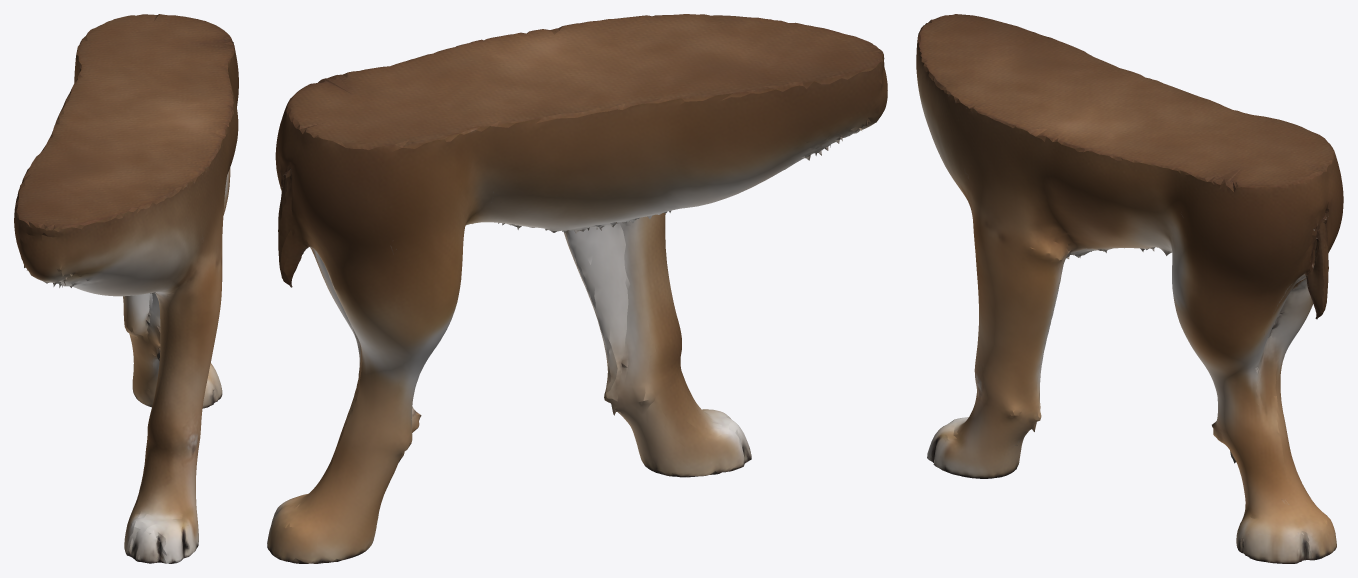
Rendered from cruciate_tear.glb.
The picture shows the model from 3 angles, left to right: view 1: azimuth 30°, elevation 25°; view 2: azimuth 150°, elevation 25°; view 3: azimuth 270°, elevation 25°; orthographic projection. The views are drawn at different scales.
Parts seen in each view (by area): view 1: model; view 2: model; view 3: model.
Part boxes in pixels (x1=…): model: x1=14, y1=14, x2=238, y2=563; model: x1=267, y1=14, x2=887, y2=563; model: x1=916, y1=14, x2=1343, y2=563.
Size of the model in its own units: 1.86 by 1.83 by 1.89.
1 material, 1 textured.
